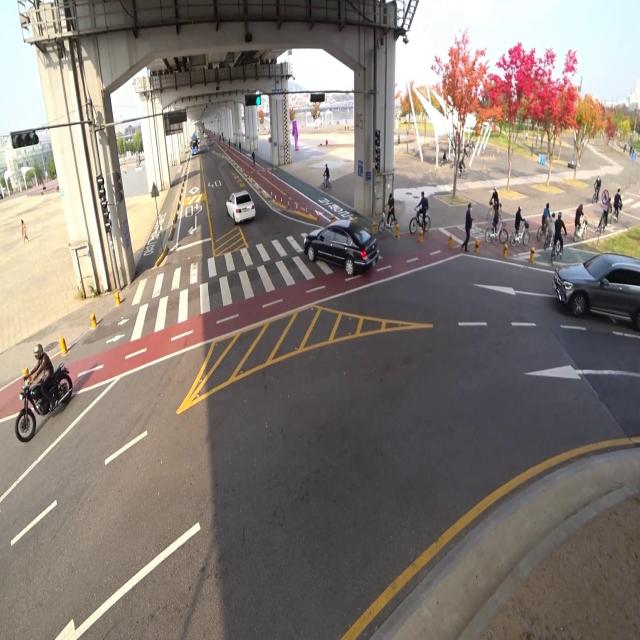Bus: (186, 130, 201, 159)
Car: (547, 240, 640, 335), (298, 213, 381, 280), (217, 177, 259, 228)
Motorcycle: (14, 338, 72, 441)
